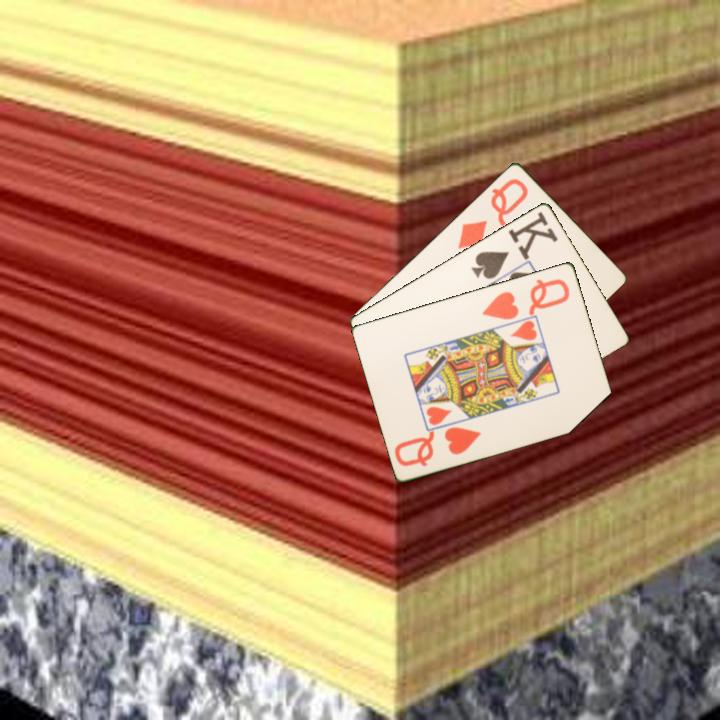Ks: (467, 207, 561, 282)
Qd: (454, 174, 531, 252)
Qh: (479, 275, 573, 323), (391, 423, 484, 469)
